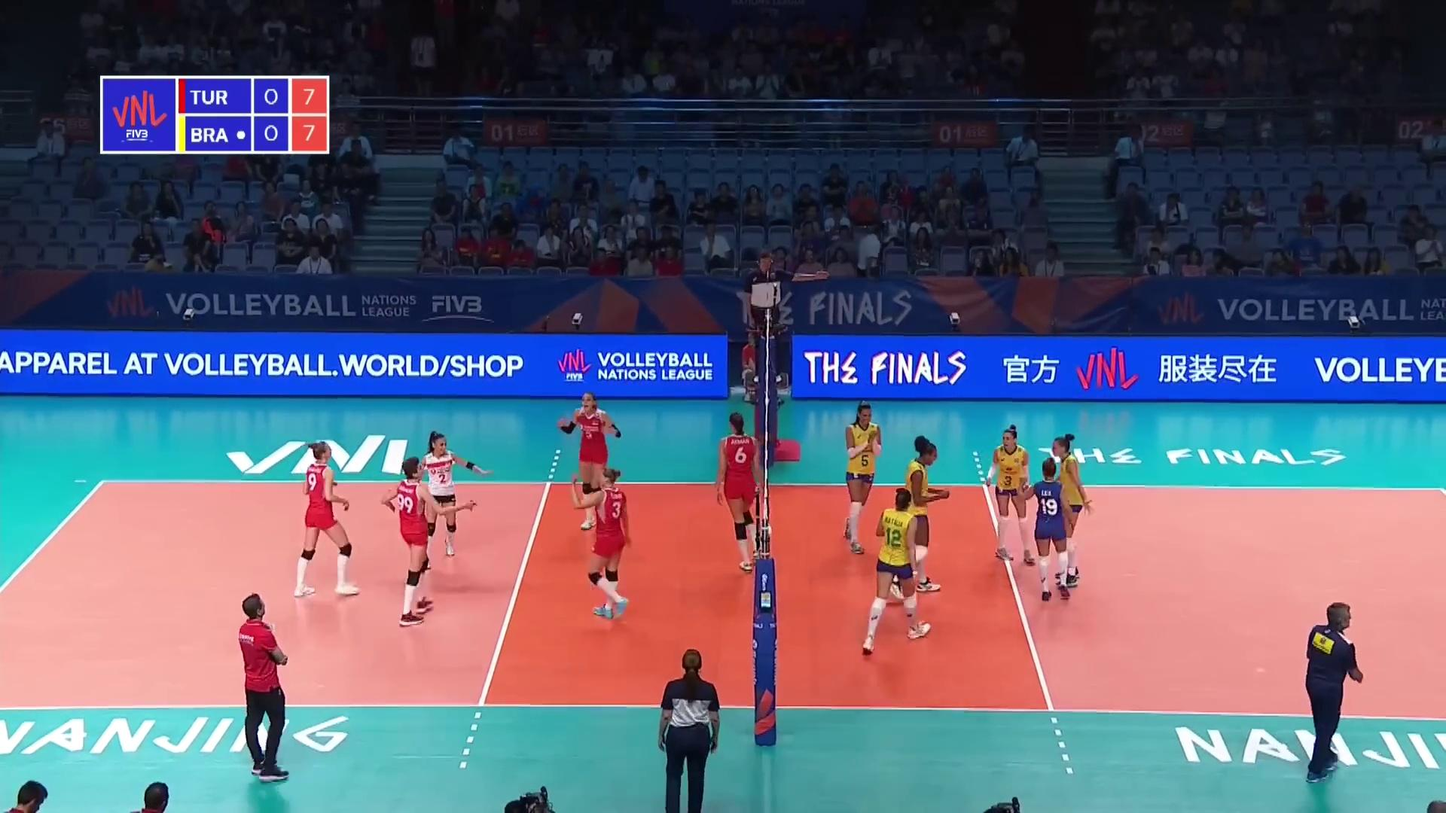player: (383, 458, 462, 626), (864, 490, 937, 651), (293, 444, 362, 600), (410, 431, 488, 555), (570, 467, 629, 619), (557, 394, 623, 528), (983, 425, 1039, 567), (719, 412, 767, 575), (903, 435, 951, 594), (1020, 456, 1071, 599), (1048, 434, 1091, 587), (842, 398, 882, 555)
refree: (658, 650, 720, 810), (745, 252, 818, 385)
